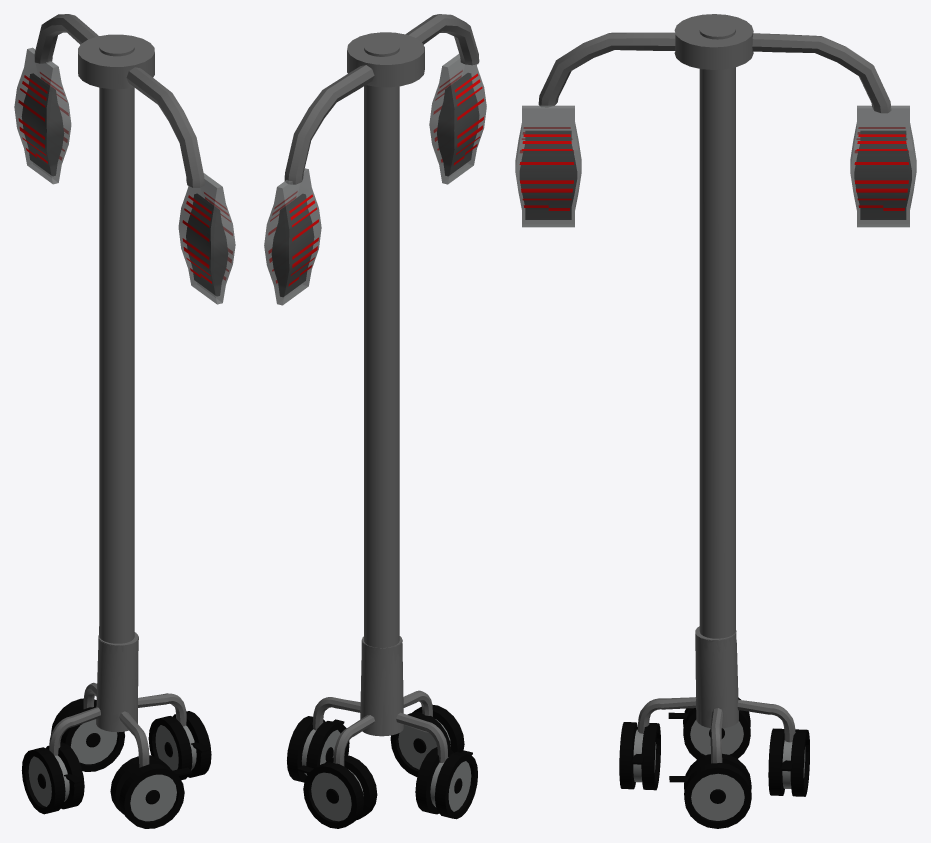
Rendered from deco_4_repar.fbx.
3 renders of one model, left to right at view 1: azimuth 30°, elevation 25°; view 2: azimuth 150°, elevation 25°; view 3: azimuth 270°, elevation 25°, orthographic. The views are drawn at different scales.
Parts seen in each view (by area): view 1: pCylinder13, pCube131, pCube127, pCylinder10, pCylinder8, pCylinder22, pCylinder20, pCylinder14, pCylinder15, pCube128, pCube132, pCylinder12 (+2 smaller); view 2: pCylinder13, pCube131, pCube127, pCylinder12, pCylinder21, pCylinder22, pCylinder14, pCylinder16, pCylinder10, pCube128, pCube132, pCylinder8 (+2 smaller); view 3: pCylinder13, pCube127, pCube131, pCylinder20, pCylinder21, pCube132, pCube128, pCylinder14, pCylinder16, pCylinder15, pCylinder8, pCylinder10 (+2 smaller).
Boxes of the visible parts, x1,y1,x2,y2 form: pCylinder13: [99, 38, 134, 643]; pCube131: [14, 47, 71, 184]; pCube127: [178, 173, 235, 304]; pCylinder10: [83, 635, 149, 767]; pCylinder8: [110, 755, 184, 828]; pCylinder22: [21, 742, 84, 814]; pCylinder20: [148, 711, 211, 780]; pCylinder14: [78, 34, 154, 89]; pCylinder15: [126, 67, 204, 187]; pCube128: [22, 73, 63, 175]; pCube132: [186, 194, 227, 296]; pCylinder12: [51, 698, 124, 771]; pCylinder13: [364, 39, 399, 647]; pCube131: [264, 168, 321, 305]; pCube127: [429, 54, 486, 184]; pCylinder12: [303, 755, 377, 828]; pCylinder21: [312, 636, 447, 762]; pCylinder22: [415, 747, 477, 819]; pCylinder14: [347, 32, 424, 87]; pCylinder16: [284, 65, 374, 184]; pCylinder10: [333, 636, 432, 766]; pCube128: [272, 194, 313, 296]; pCube132: [437, 73, 479, 175]; pCylinder8: [390, 704, 464, 776]; pCylinder13: [699, 21, 735, 638]; pCube127: [515, 105, 581, 227]; pCube131: [850, 105, 916, 227]; pCylinder20: [684, 753, 751, 828]; pCylinder21: [696, 630, 738, 763]; pCube132: [520, 131, 576, 219]; pCube128: [854, 131, 911, 219]; pCylinder14: [674, 14, 753, 69]; pCylinder16: [752, 33, 890, 113]; pCylinder15: [538, 32, 675, 106]; pCylinder8: [619, 722, 660, 790]; pCylinder10: [638, 626, 795, 742].
Size of the model in its own units: 0.1571 by 0.7121 by 0.3401.
